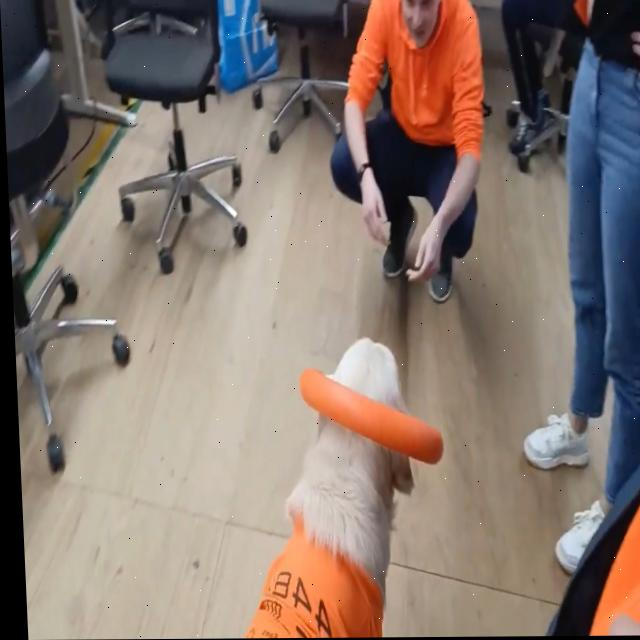note: (294, 365, 443, 471)
